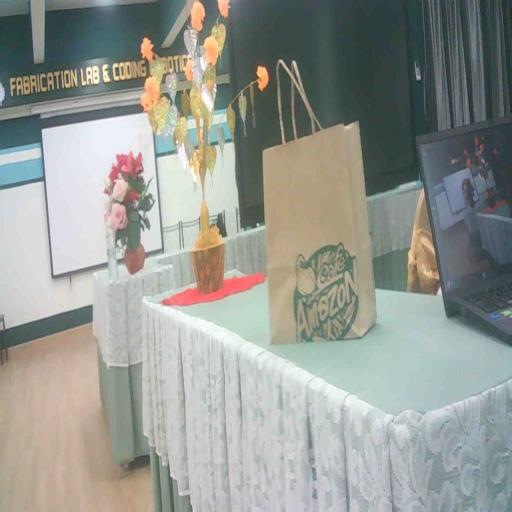bag: (253, 116, 386, 355)
